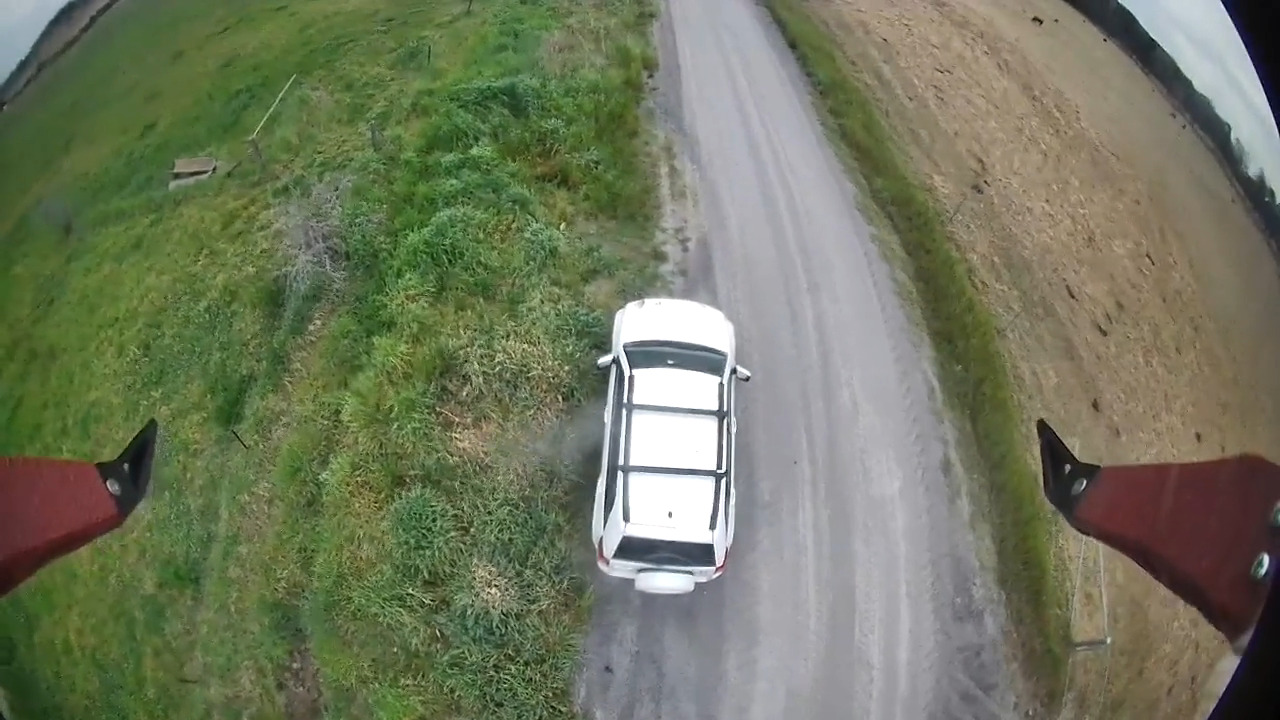Car: (591, 297, 751, 594)
